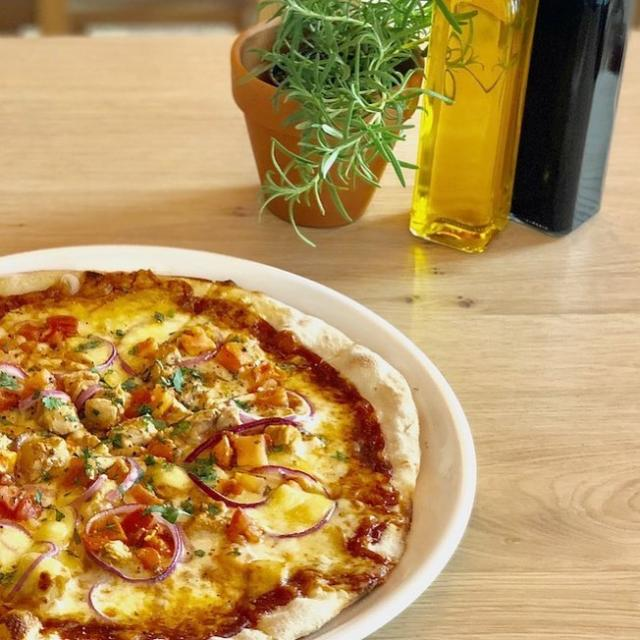pizza: (0, 265, 424, 640)
